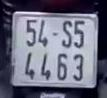3: (71, 51, 85, 83)
4: (40, 51, 54, 82), (23, 52, 38, 80), (38, 19, 50, 47)
5: (73, 18, 89, 49), (24, 17, 38, 47)
6: (56, 49, 68, 81)
S: (62, 17, 73, 50)
